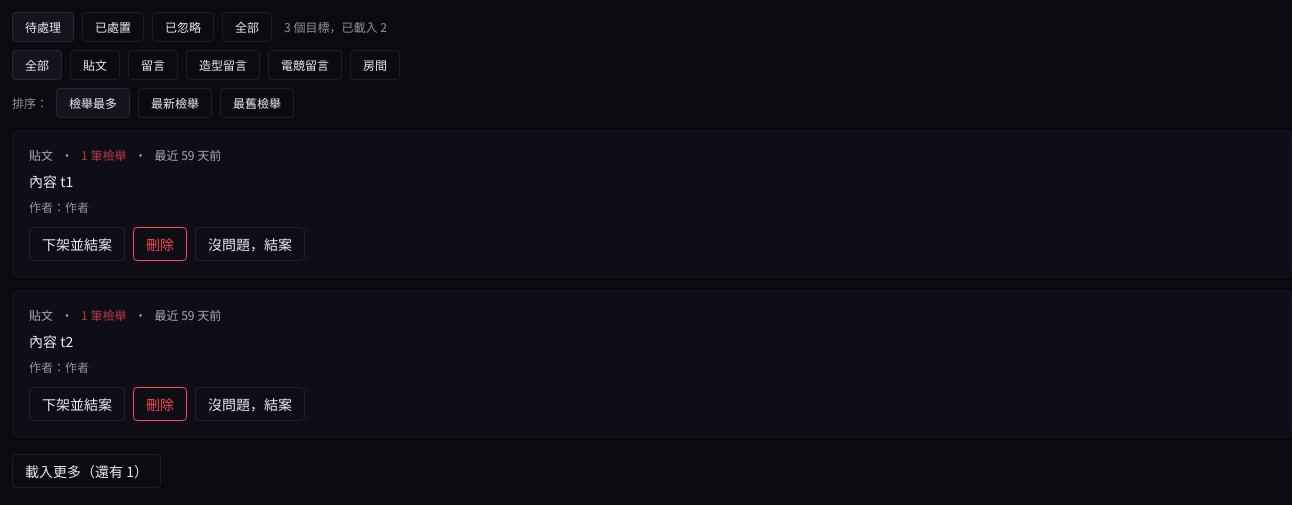
Test: ReportsTab paging › shows a target once when a later page brings it again
Expected: the text "內容 t2" is shown, [29, 331, 73, 351]
Click the button "載入更多（還有 1）". click: x=86, y=471
box: [12, 454, 161, 488]
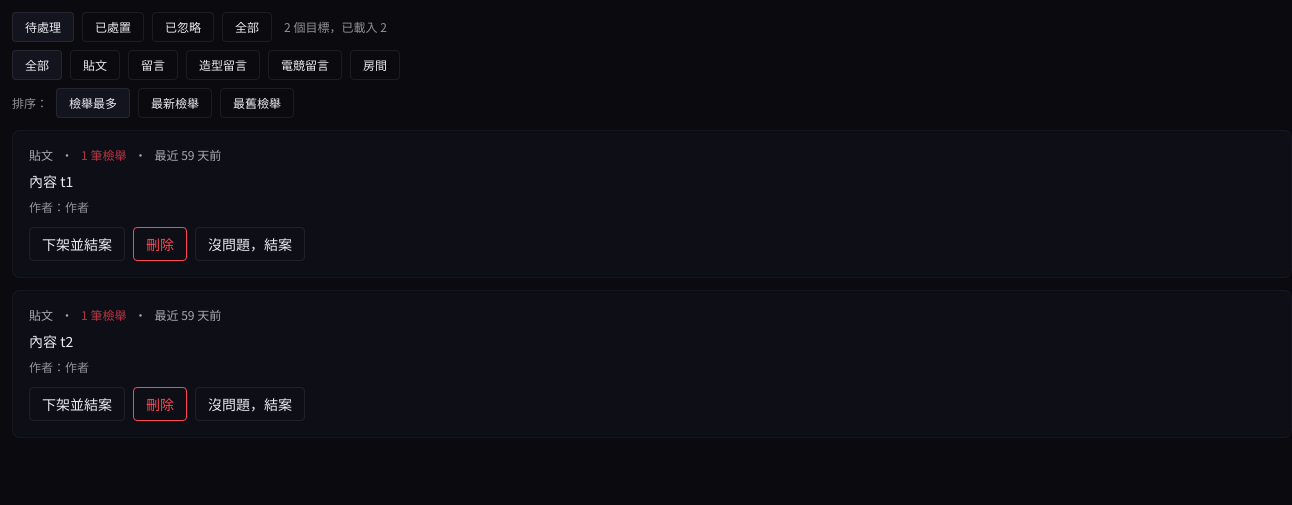
Expected: the button "載入更多" is gone
Expected: the text "2 個目標，已載入 2" is shown, [284, 19, 387, 35]
